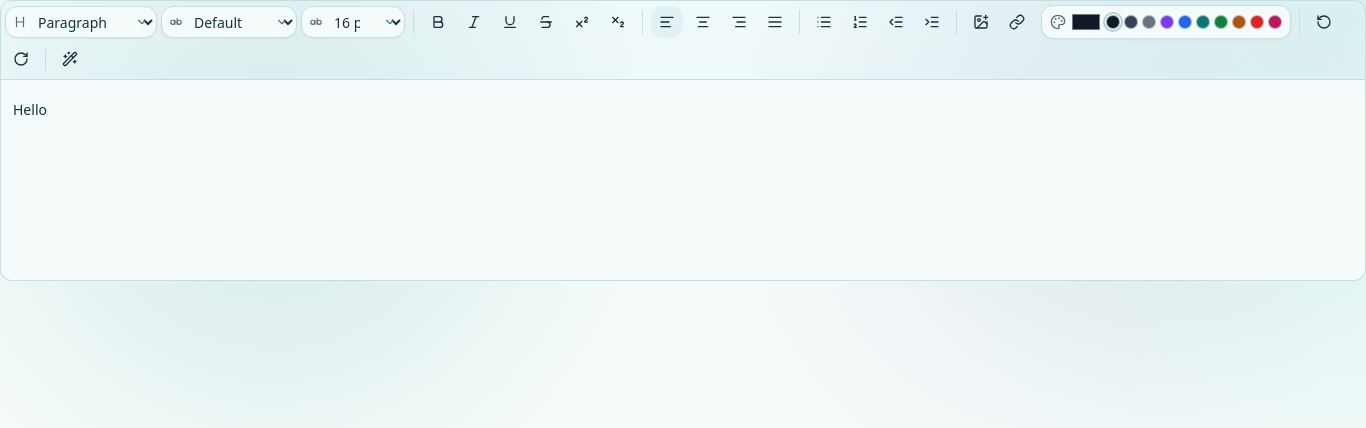
Scenario: RichTextEditor UI › opens the link editor popover
Click the button named "Link" at point(1017, 22), box 1001,6 -> 1033,38
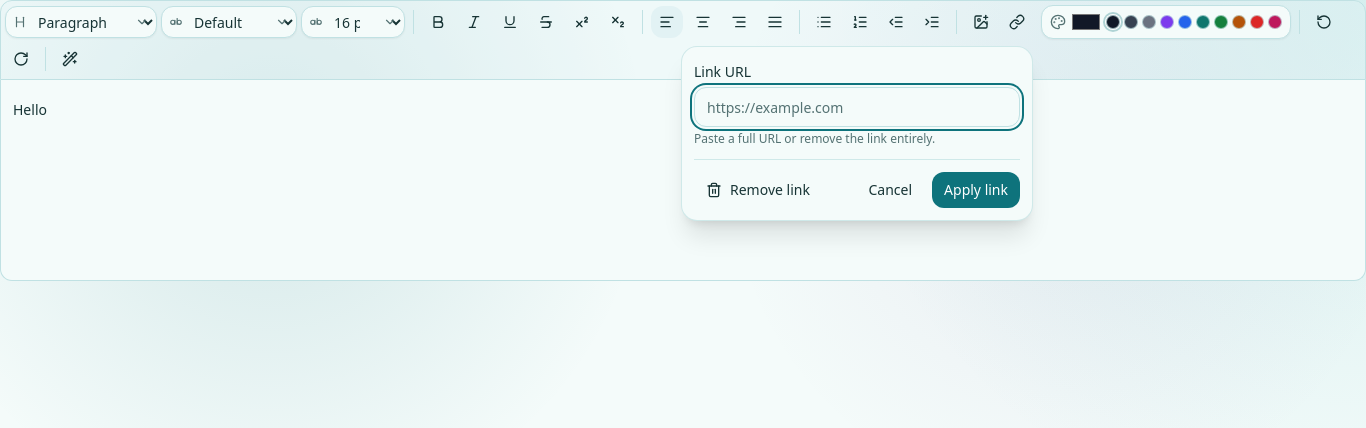
Expected: the field labelled "Link URL" is shown, 694,87 -> 1020,127
Expected: the button "Apply link" is shown, 932,172 -> 1020,208
Expected: the button "Remove link" is shown, 694,172 -> 822,208
